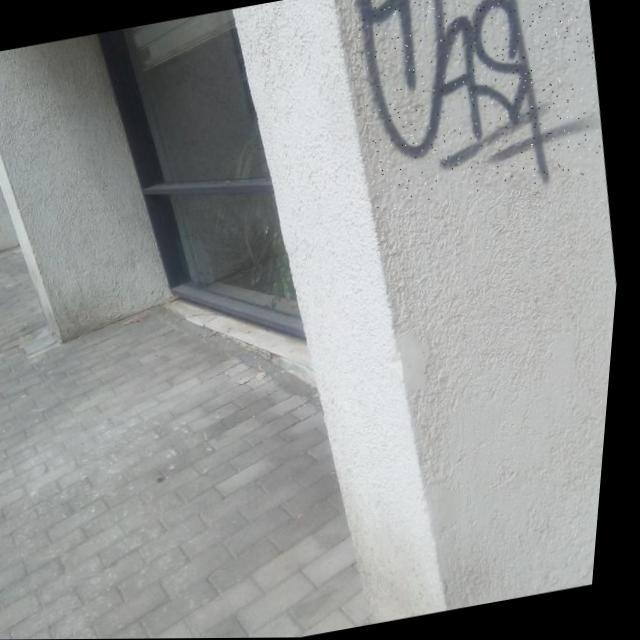-: (340, 0, 619, 213)
